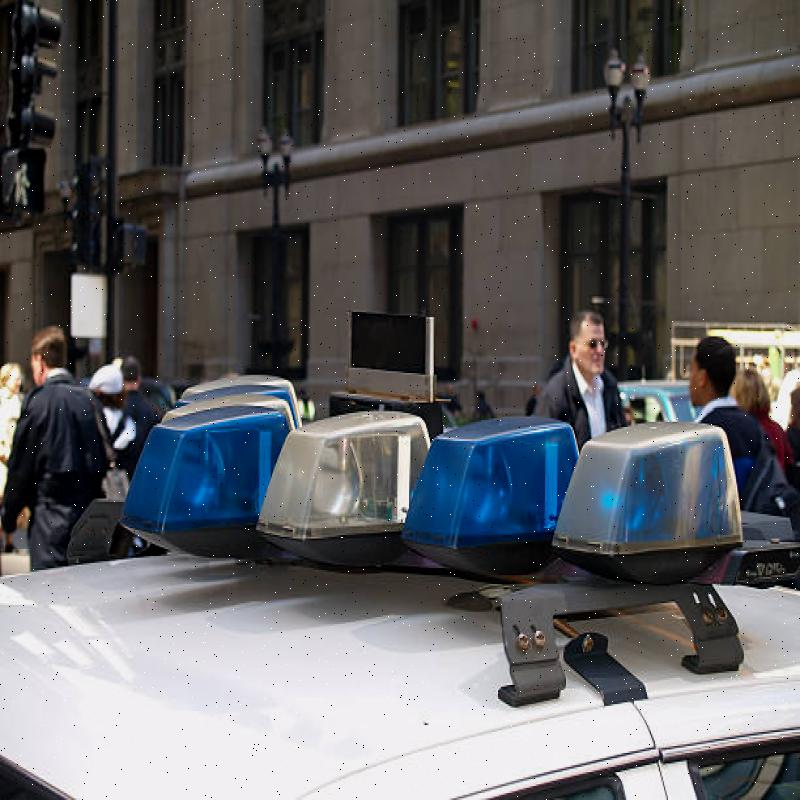AmbulanceSiren: (122, 380, 744, 646)
